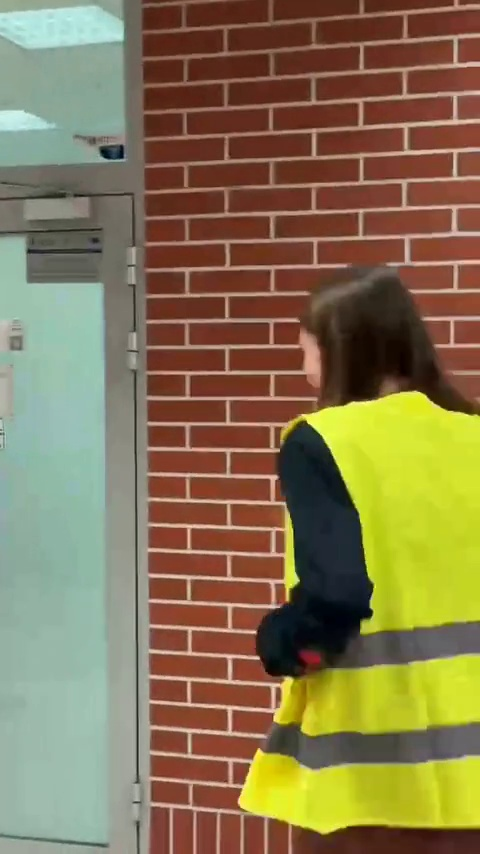vest: (231, 268, 480, 854)
